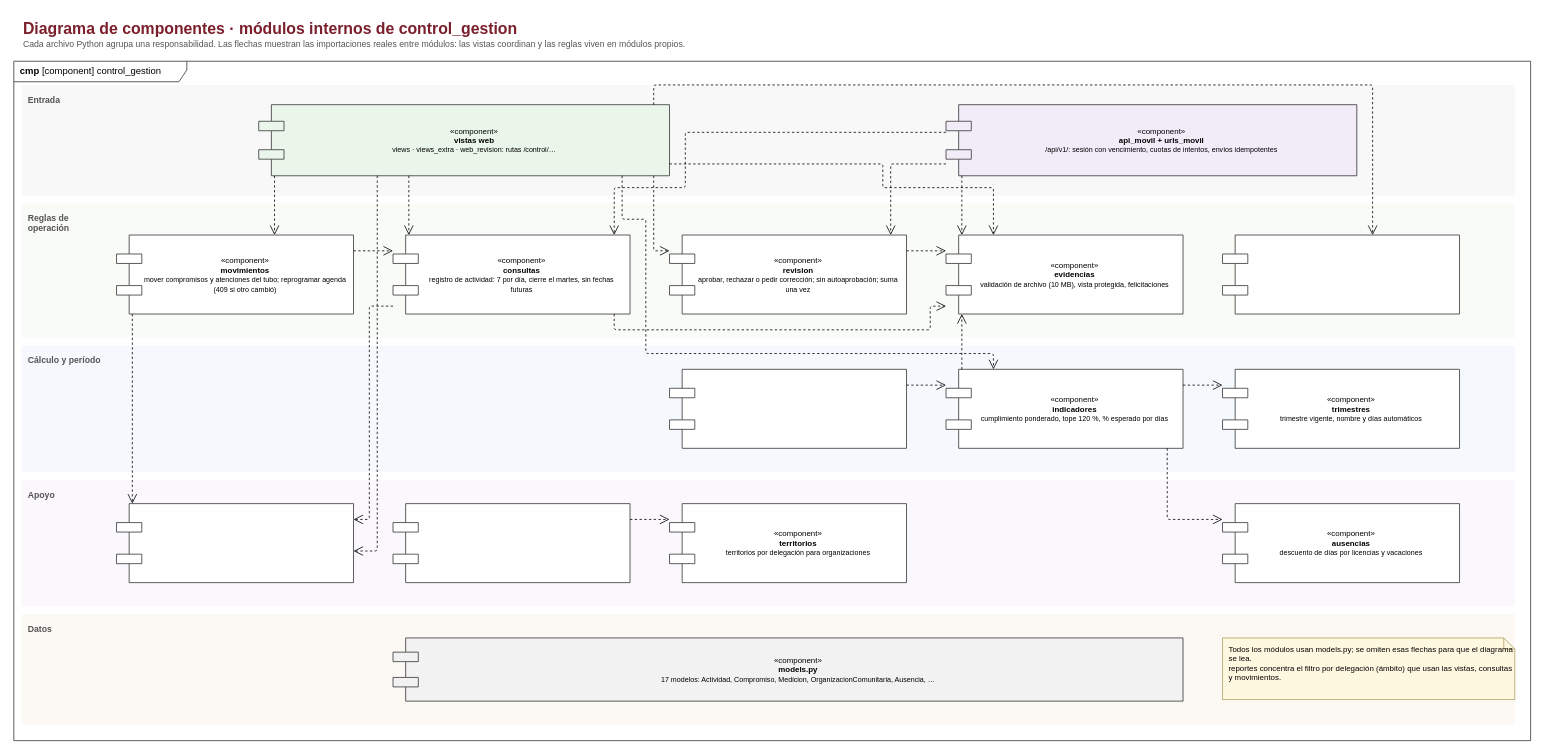
Image size: 1544x754. Some labels were removed from this diagram. The shapes that lost their labels are listed below. From the top down, each one's centre as x and y in pixels, then its label:
(x=1341, y=274): «component» kanban mover tickets del tablero con control de concurrencia
(x=788, y=408): «component» panel_personal pestaña personal por cargo del funcionario
(x=235, y=543): «component» reportes ámbito por delegación, perfil de acceso y Excel
(x=511, y=543): «component» forms validación de formularios: RUT de creación, períodos, agenda
